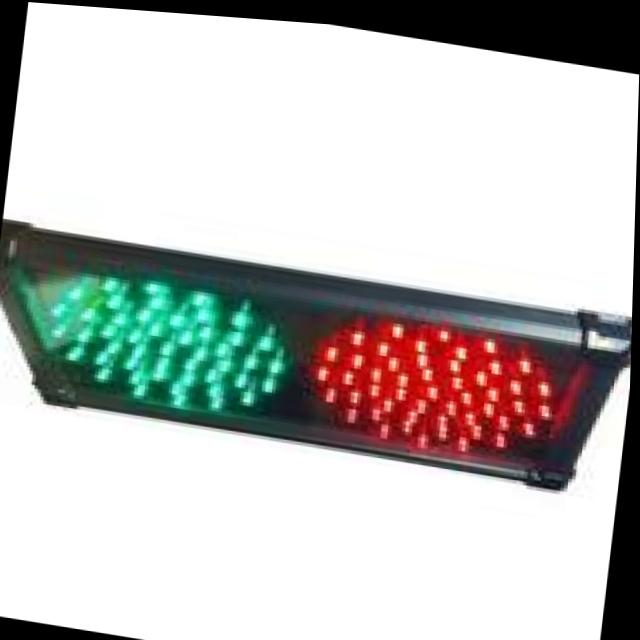green_light: (41, 214, 296, 494)
red_light: (288, 252, 588, 513)
